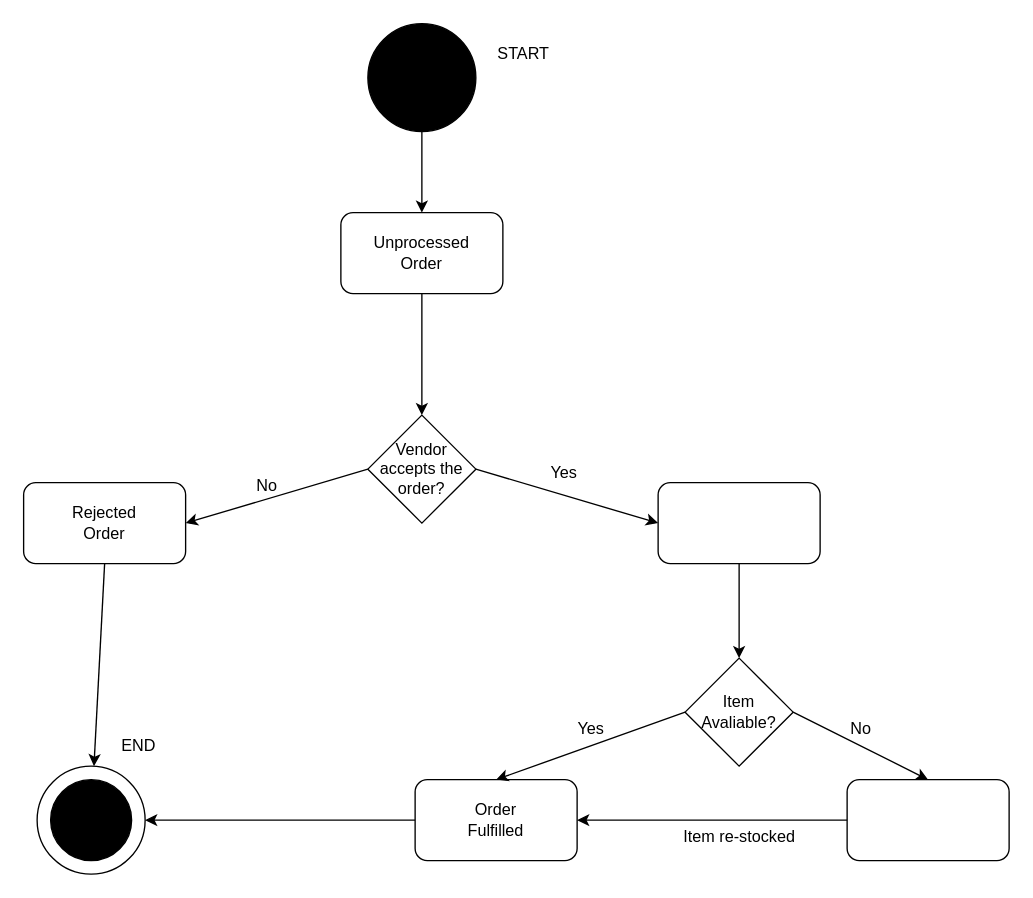
Image size: 1033x898. Some labels were removed from this diagram. Here are the shapes that lost their labels. From the top down, the centre of each, then its label:
point 738,522: Order Accepted
point 927,819: Order Pending
